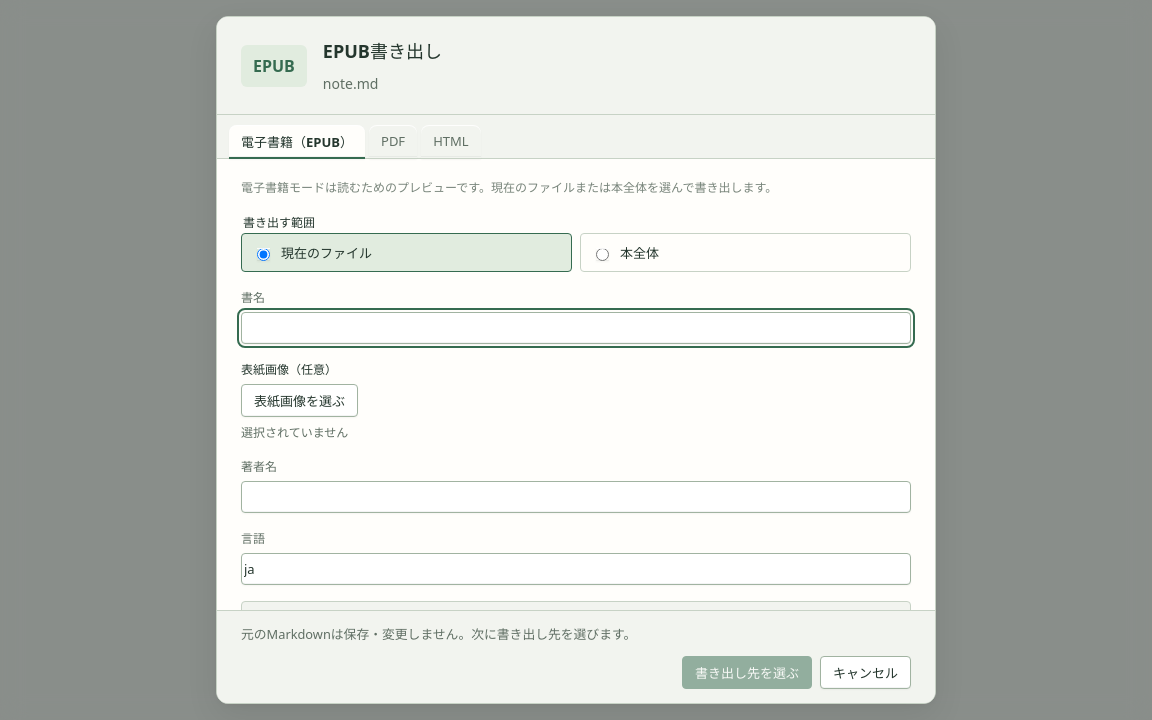
export format round trip (画面11) › keeps only one dialog and the HTML book note while switching
Click the button "HTML" at x=451, y=142, box [421,125,481,159]
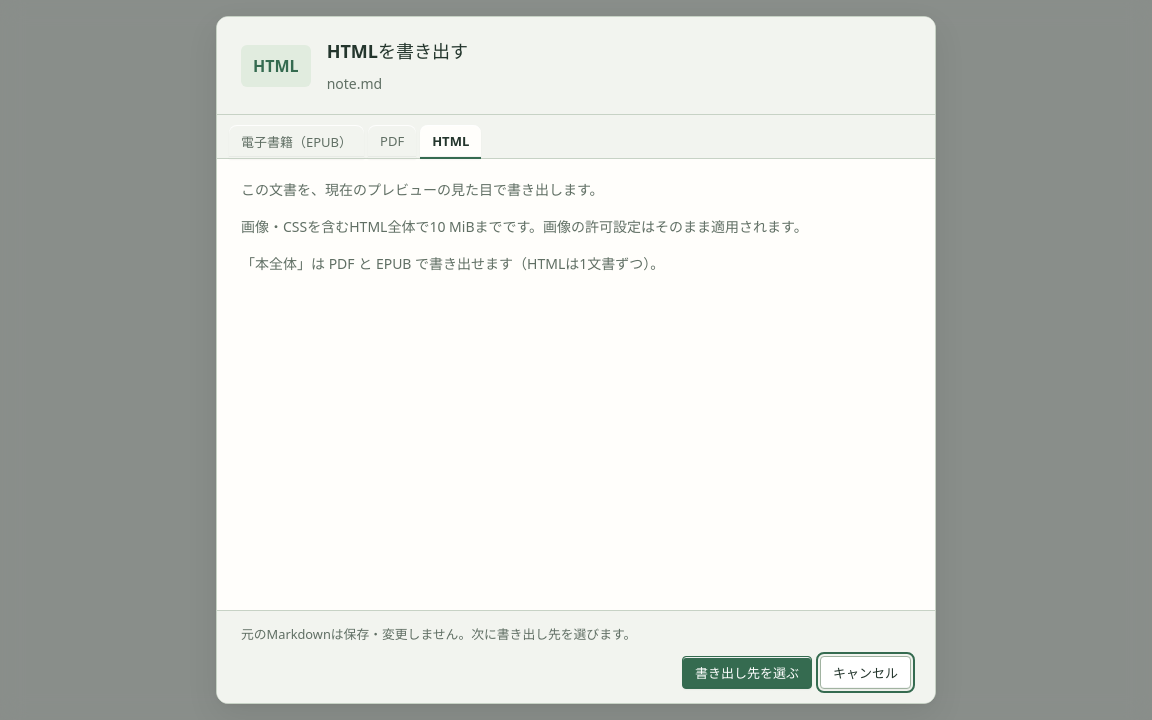
Expected: the number of dialogs is 1, [216,16,936,704]
Now the text "「本全体」は PDF と EPUB で書き出せます（HTMLは1文書ずつ）。" is shown, box [241,254,664,273]
